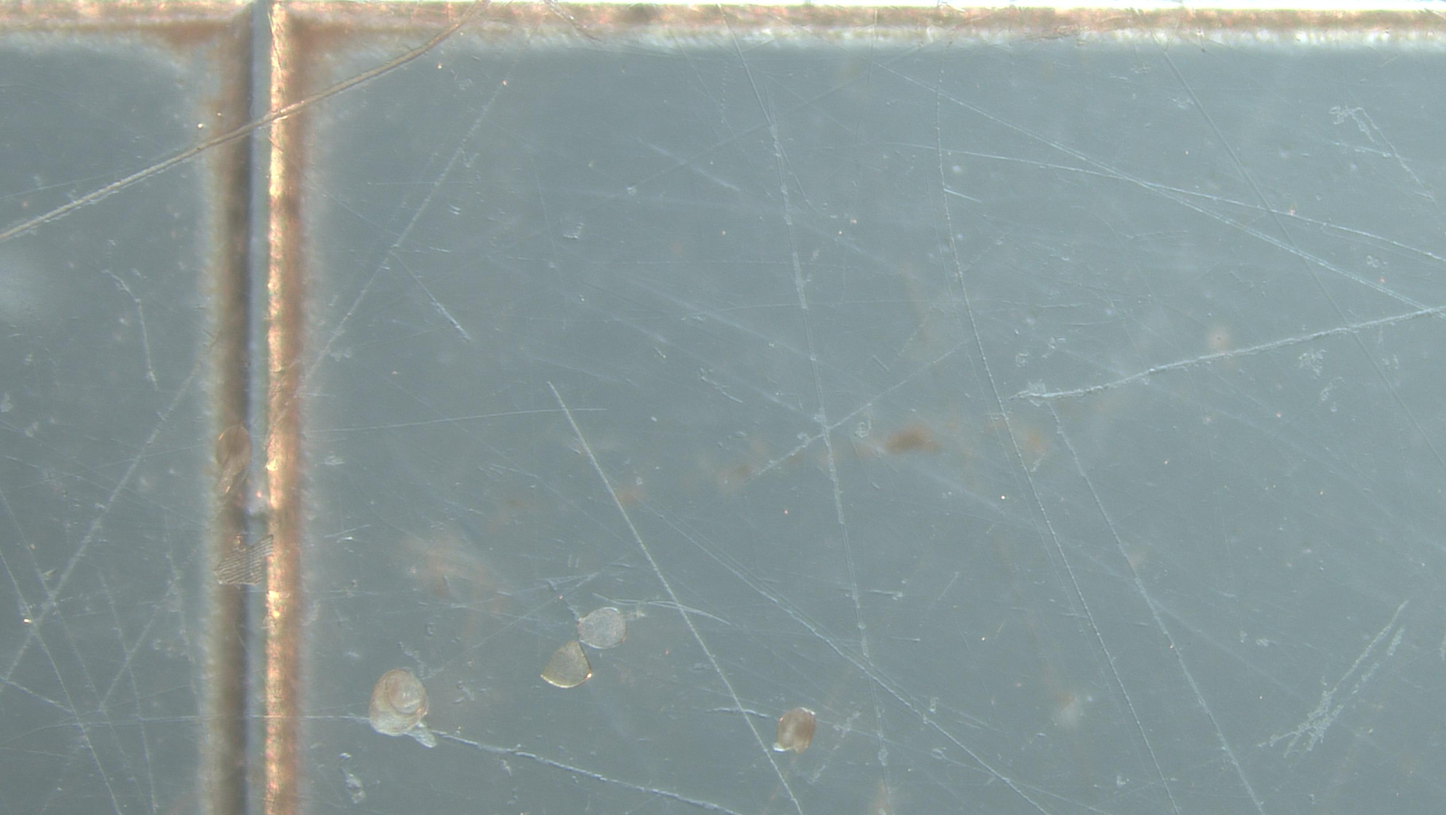dead: (577, 608, 627, 649)
live: (370, 669, 428, 736), (774, 708, 816, 753)
